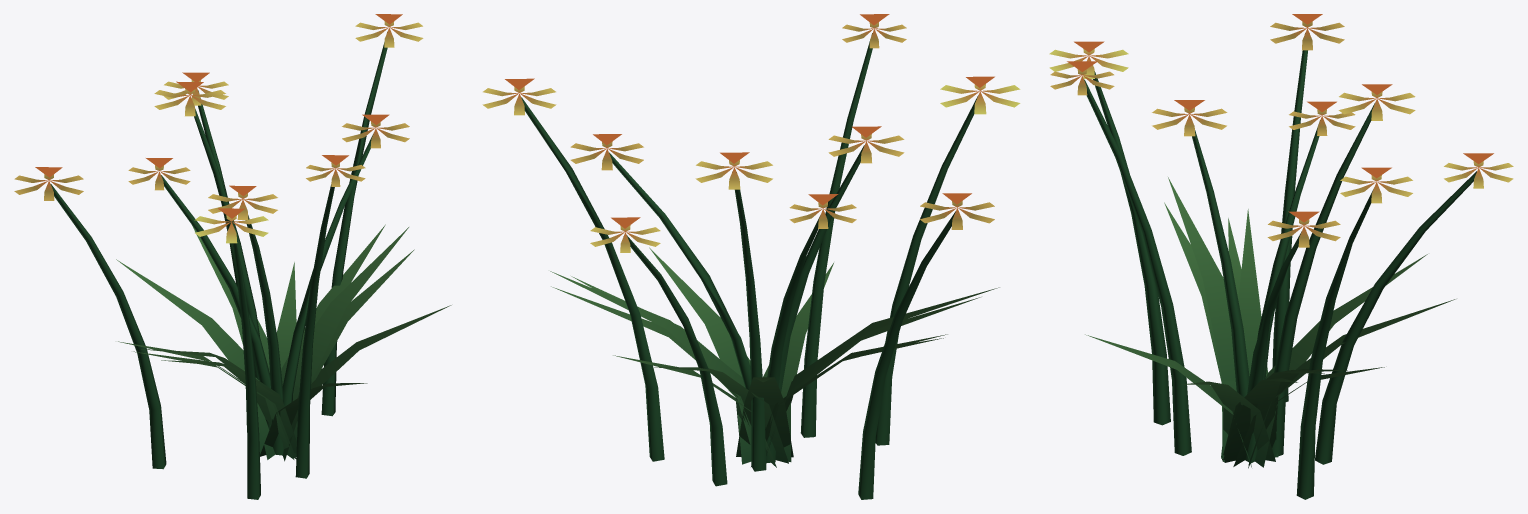
File: flower_gold.glb
3 renders of one model, left to right at view 1: azimuth 30°, elevation 25°; view 2: azimuth 150°, elevation 25°; view 3: azimuth 270°, elevation 25°, orthographic. The views are drawn at different scales.
Visible parts, largest first — view 1: flower_gold; view 2: flower_gold; view 3: flower_gold.
Part boxes in pixels (x1=…): flower_gold: x1=14, y1=14, x2=451, y2=499; flower_gold: x1=482, y1=14, x2=1020, y2=499; flower_gold: x1=1049, y1=14, x2=1513, y2=499.
Bounding box in the file's own units: 0.3773 × 0.2934 × 0.3244.
